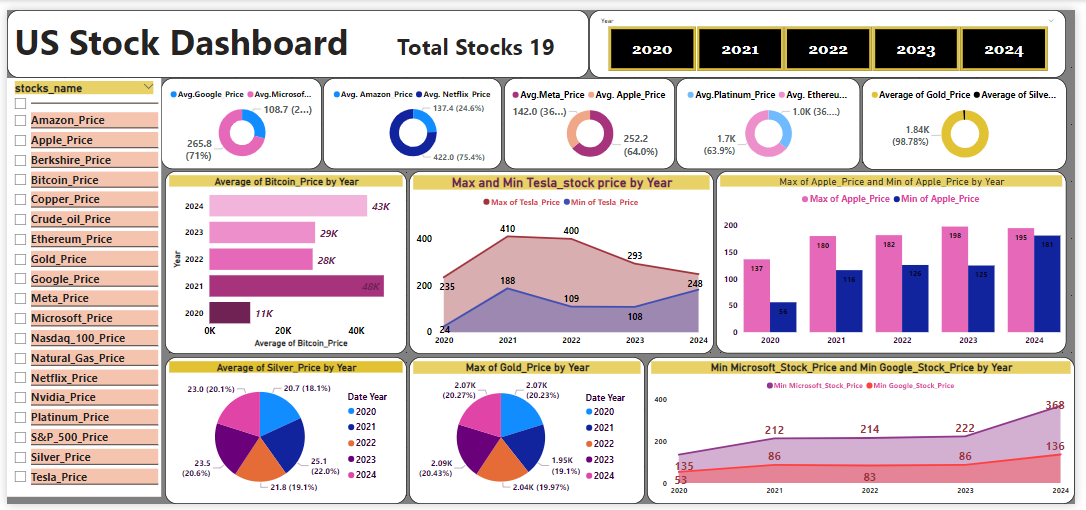

The dashboard page shown, as its layout file describes it:
{"tool":"powerbi","page":{"name":"Page 1","canvas":[1780,824],"ordinal":0},"visuals":[{"type":"donutChart","fields":{"Y":["Avg(US Stock Market Dataset20-24.Amazon_Price)","Avg(US Stock Market Dataset20-24.Netflix_Price)"]},"box":[526,113.3,298.3,151.7],"z":0},{"type":"donutChart","fields":{"Y":["Avg(US Stock Market Dataset20-24.Google_Price)","Avg(US Stock Market Dataset20-24.Microsoft_Price)"]},"box":[256.7,113.3,268.3,151.7],"z":1000},{"type":"areaChart","fields":{"Category":["US Stock Market Dataset20-24.Date.Variation.Date Hierarchy.Year"],"Y":["Min(US Stock Market Dataset20-24.Microsoft_Price)","Min(US Stock Market Dataset20-24.Google_Price)"]},"box":[1066.7,578.3,713.3,245],"z":2000},{"type":"areaChart","title":"Max and Min Tesla_stock price by Year","fields":{"Category":["US Stock Market Dataset20-24.Date.Variation.Date Hierarchy.Year"],"Y":["Max(US Stock Market Dataset20-24.Tesla_Price)","Min(US Stock Market Dataset20-24.Tesla_Price)"]},"box":[670,268.3,508.3,305],"z":3000},{"type":"textbox","box":[0,0,970,113.3],"z":4000},{"type":"slicer","fields":{"Values":["US Stock Market Dataset20-24.Date.Variation.Date Hierarchy.Year"]},"box":[970,0,795,113.3],"z":5000},{"type":"slicer","fields":{"Values":["US Stock Market Dataset20-24.stocks_name"]},"box":[0,113.3,256.7,698.3],"z":6000},{"type":"donutChart","fields":{"Y":["Avg(US Stock Market Dataset20-24.Meta_Price)","Avg(US Stock Market Dataset20-24.Apple_Price)"]},"box":[828.3,113.3,285,151.7],"z":7000},{"type":"donutChart","fields":{"Y":["Avg(US Stock Market Dataset20-24.Gold_Price)","Avg(US Stock Market Dataset20-24.Silver_Price)"]},"box":[1424.3,112.9,341.4,152.9],"z":8000},{"type":"donutChart","fields":{"Y":["Avg(US Stock Market Dataset20-24.Platinum_Price)","Avg(US Stock Market Dataset20-24.Ethereum_Price)"]},"box":[1115,113.3,306.7,151.7],"z":9000},{"type":"pieChart","fields":{"Y":["Max(US Stock Market Dataset20-24.Gold_Price)"],"Category":["US Stock Market Dataset20-24.Date.Variation.Date Hierarchy.Year"]},"box":[670,578.3,393.3,245],"z":10000},{"type":"pieChart","fields":{"Y":["Avg(US Stock Market Dataset20-24.Silver_Price)"],"Category":["US Stock Market Dataset20-24.Date.Variation.Date Hierarchy.Year"]},"box":[263.3,578.3,403.3,245],"z":11000},{"type":"barChart","fields":{"Category":["US Stock Market Dataset20-24.Date.Variation.Date Hierarchy.Year"],"Y":["Avg(US Stock Market Dataset20-24.Bitcoin_Price)"]},"box":[263.3,268.3,403.3,305],"z":12000},{"type":"clusteredColumnChart","fields":{"Y":["Max(US Stock Market Dataset20-24.Apple_Price)","Min(US Stock Market Dataset20-24.Apple_Price)1"],"Category":["US Stock Market Dataset20-24.Date.Variation.Date Hierarchy.Year"]},"box":[1181.4,268.6,584.3,304.3],"z":13000}]}

Visuals, with their boxes in screenshot pixels (x1, y1, x2, y2), scaled from the page's 1780x824 canvas onto the 1086x510 screenshot:
donutChart - Avg(US Stock Market Dataset20-24.Amazon_Price) x Avg(US Stock Market Dataset20-24.Netflix_Price): (x1=321, y1=70, x2=503, y2=164)
donutChart - Avg(US Stock Market Dataset20-24.Google_Price) x Avg(US Stock Market Dataset20-24.Microsoft_Price): (x1=157, y1=70, x2=320, y2=164)
areaChart - US Stock Market Dataset20-24.Date.Variation.Date Hierarchy.Year x Min(US Stock Market Dataset20-24.Microsoft_Price): (x1=651, y1=358, x2=1085, y2=509)
"Max and Min Tesla_stock price by Year" areaChart: (x1=409, y1=166, x2=719, y2=355)
textbox: (x1=0, y1=0, x2=592, y2=70)
slicer - US Stock Market Dataset20-24.Date.Variation.Date Hierarchy.Year: (x1=592, y1=0, x2=1077, y2=70)
slicer - US Stock Market Dataset20-24.stocks_name: (x1=0, y1=70, x2=157, y2=502)
donutChart - Avg(US Stock Market Dataset20-24.Meta_Price) x Avg(US Stock Market Dataset20-24.Apple_Price): (x1=505, y1=70, x2=679, y2=164)
donutChart - Avg(US Stock Market Dataset20-24.Gold_Price) x Avg(US Stock Market Dataset20-24.Silver_Price): (x1=869, y1=70, x2=1077, y2=165)
donutChart - Avg(US Stock Market Dataset20-24.Platinum_Price) x Avg(US Stock Market Dataset20-24.Ethereum_Price): (x1=680, y1=70, x2=867, y2=164)
pieChart - Max(US Stock Market Dataset20-24.Gold_Price) x US Stock Market Dataset20-24.Date.Variation.Date Hierarchy.Year: (x1=409, y1=358, x2=649, y2=509)
pieChart - Avg(US Stock Market Dataset20-24.Silver_Price) x US Stock Market Dataset20-24.Date.Variation.Date Hierarchy.Year: (x1=161, y1=358, x2=407, y2=509)
barChart - US Stock Market Dataset20-24.Date.Variation.Date Hierarchy.Year x Avg(US Stock Market Dataset20-24.Bitcoin_Price): (x1=161, y1=166, x2=407, y2=355)
clusteredColumnChart - Max(US Stock Market Dataset20-24.Apple_Price) x Min(US Stock Market Dataset20-24.Apple_Price)1: (x1=721, y1=166, x2=1077, y2=355)
